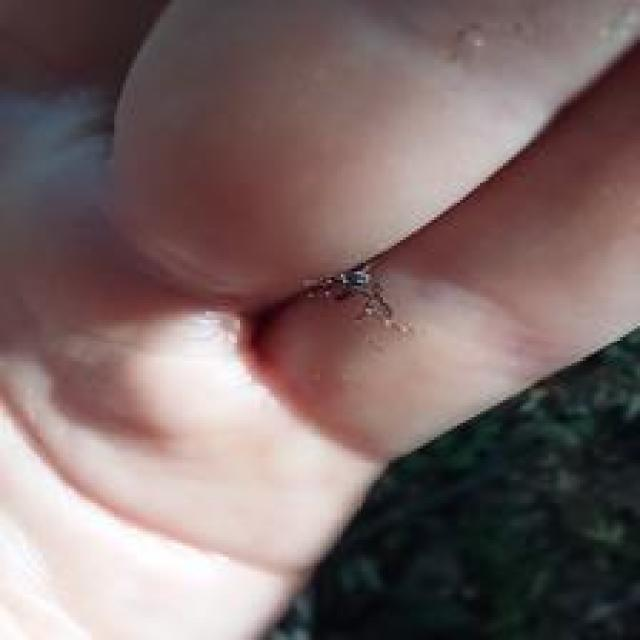Aedes albopictus: (304, 258, 413, 342)
